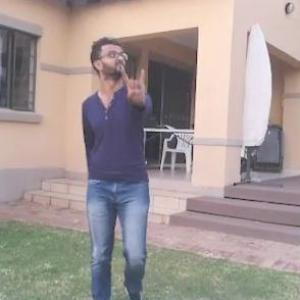takeoff-hand: (122, 63, 152, 107)
